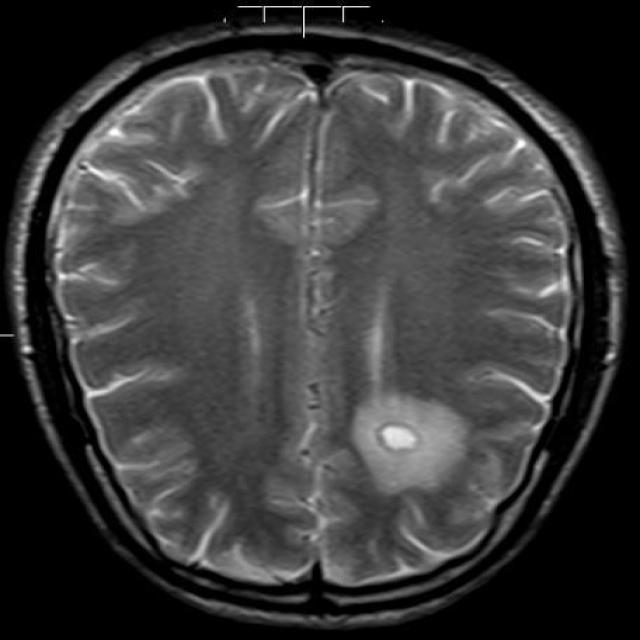Tumor-Cell: (345, 398, 469, 488)
